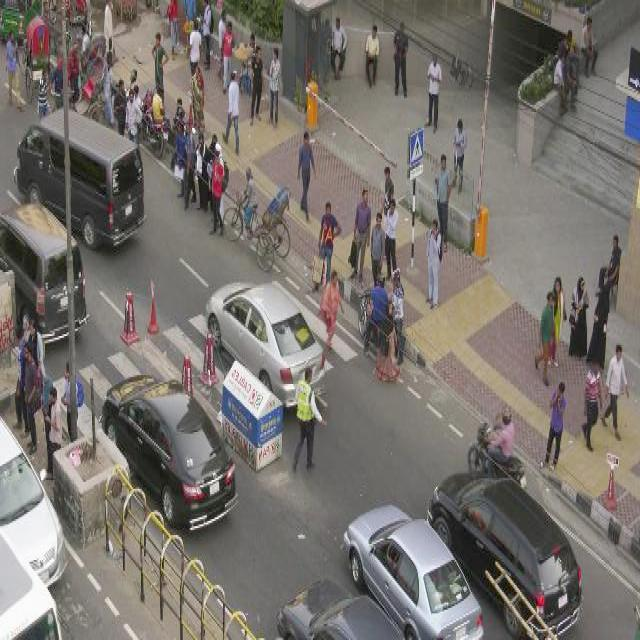black: (428, 461, 582, 640), (100, 372, 234, 532), (18, 106, 144, 246), (1, 200, 87, 340)
silver: (343, 504, 481, 640), (204, 278, 326, 408)
